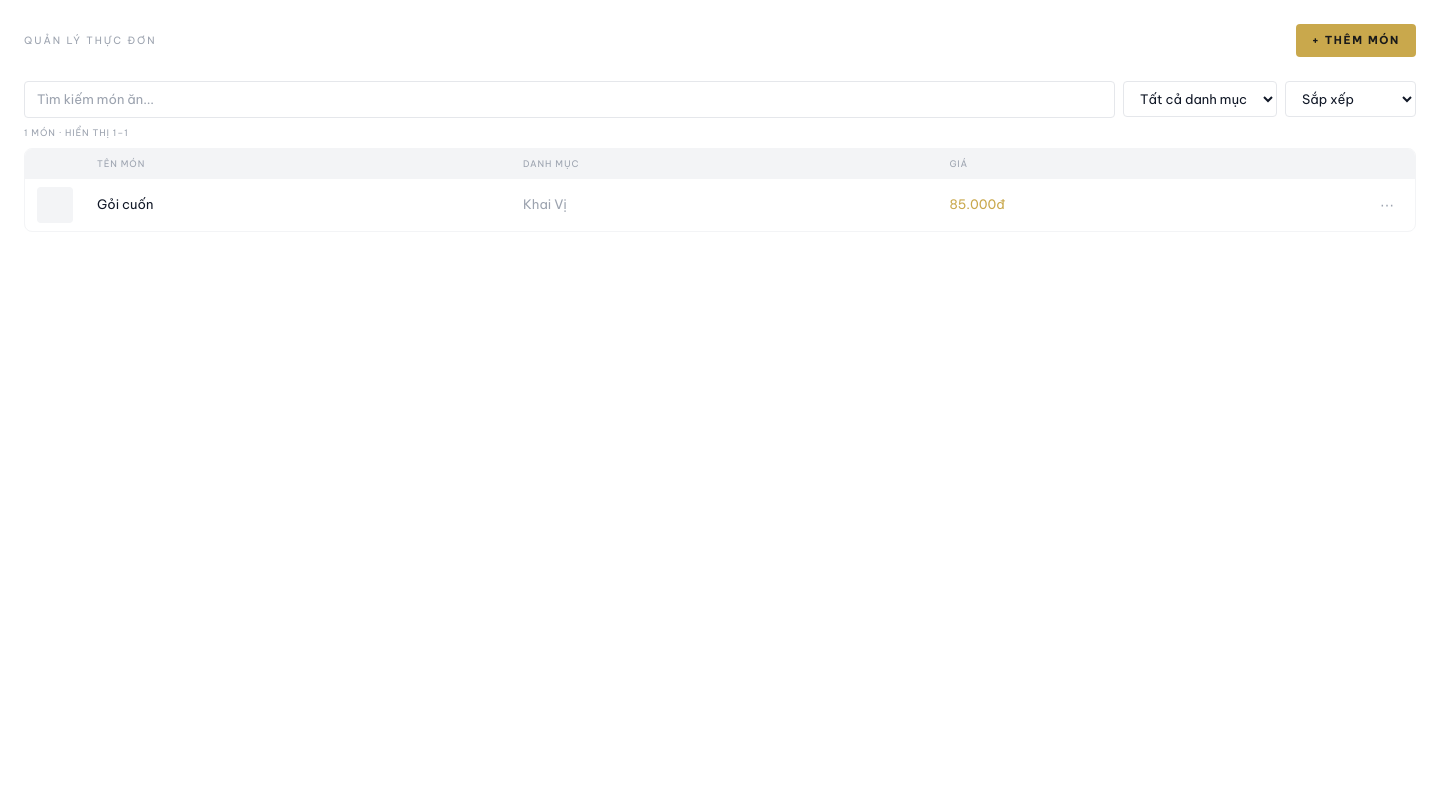
Test: AdminMenuPage › row click opens MenuDetailDialog with correct item
Click the text "Gỏi cuốn".
click(125, 204)  # box [97, 196, 153, 212]
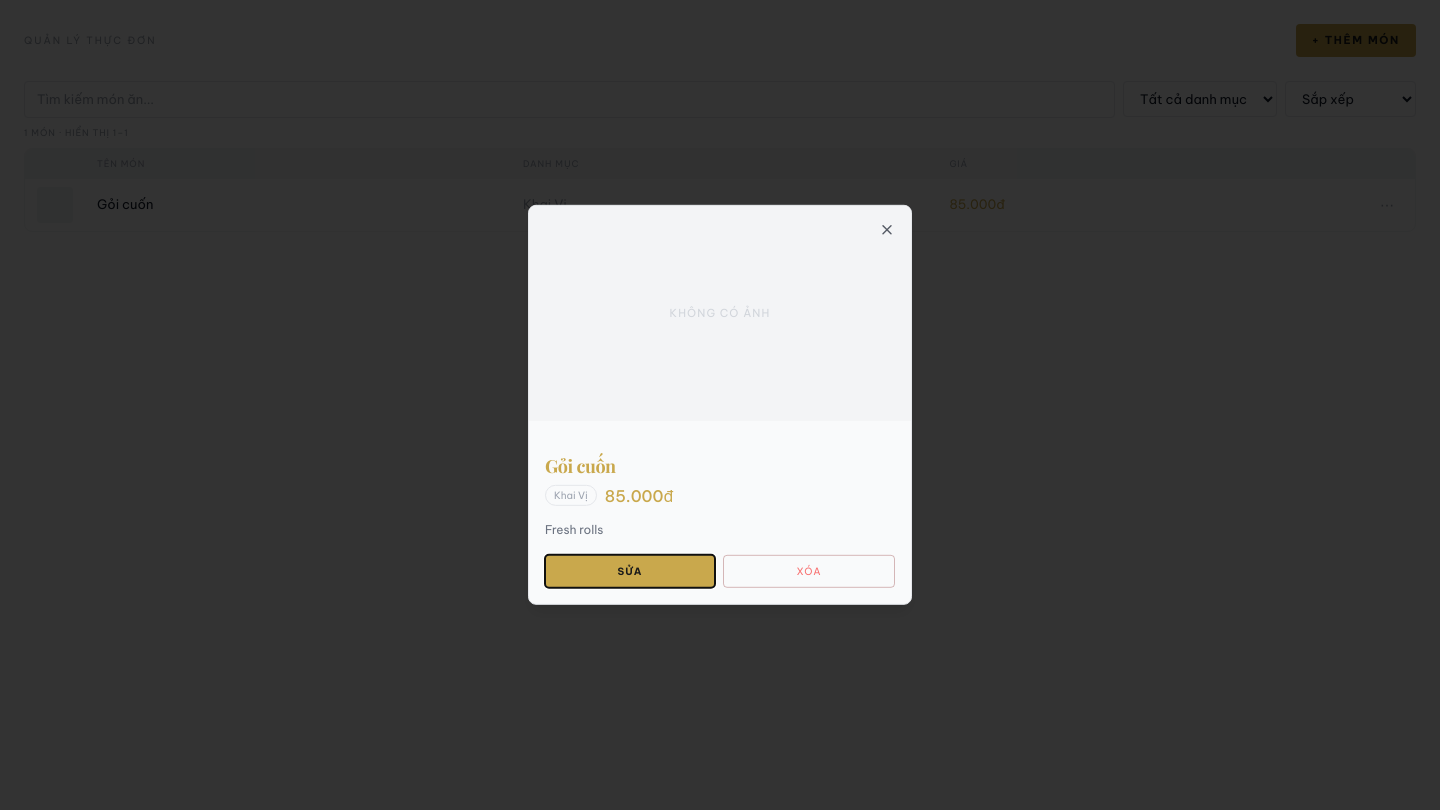
Result: the text "Fresh rolls" is shown at [545, 522, 603, 537]
